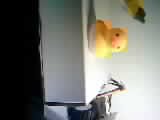duck: (84, 10, 128, 61)
